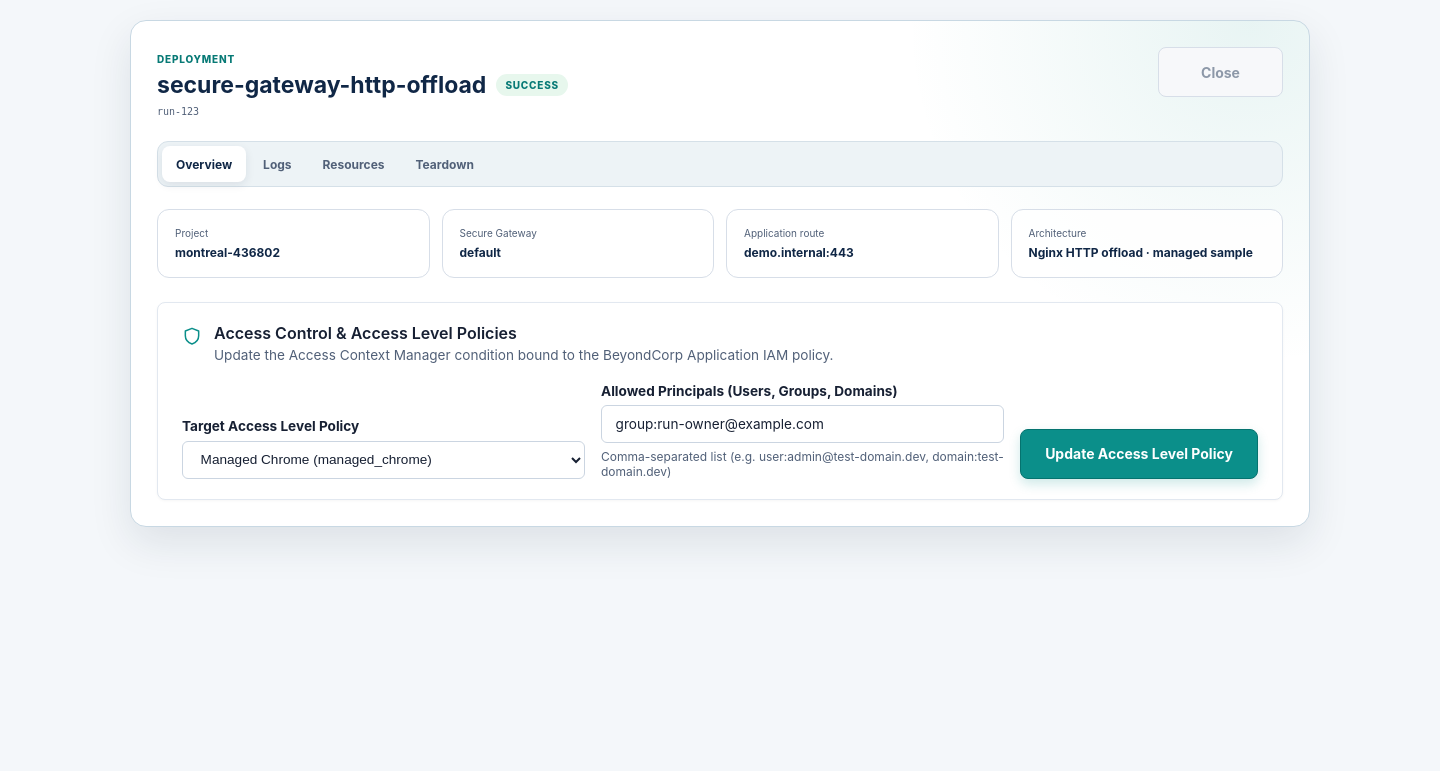
it: DeploymentManager › requires the hash-bound exact phrase before teardown
This screenshot has width=1440, height=771.
expect the text "montreal-436802" is shown: met, box [175,245,280,260]
Click the button "Teardown".
click(445, 164)  # box [402,146,488,182]
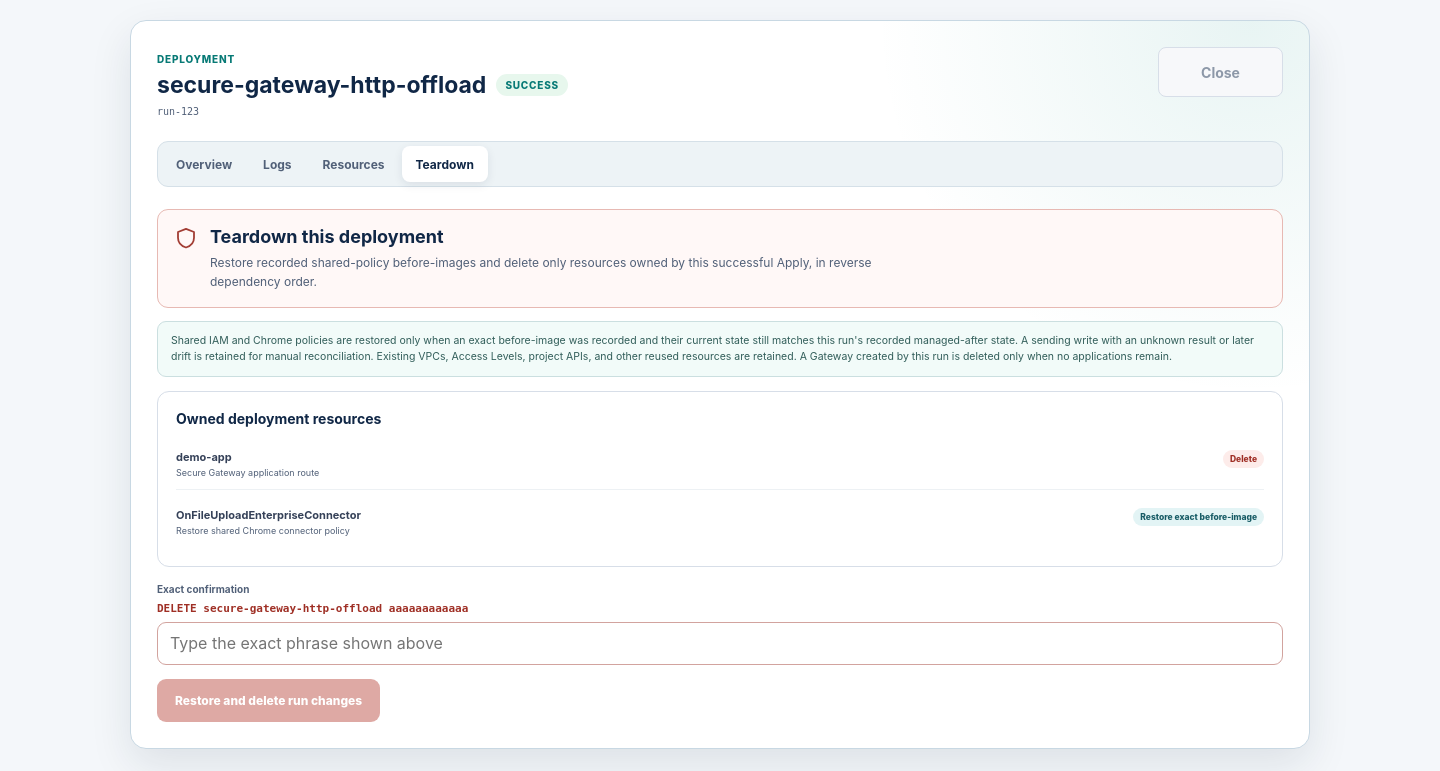
expect the button "Restore and delete run changes" is disabled: met, box [157,679,380,722]
Type "DELETE secure-gateway-http-offload aaaaaaaaaaaa" into the field with placeholder "Type the exact phrase shown above".
click(720, 643); type("DELETE secure-gateway-http-offload aaaaaaaaaaaa")  # box [157,622,1283,665]
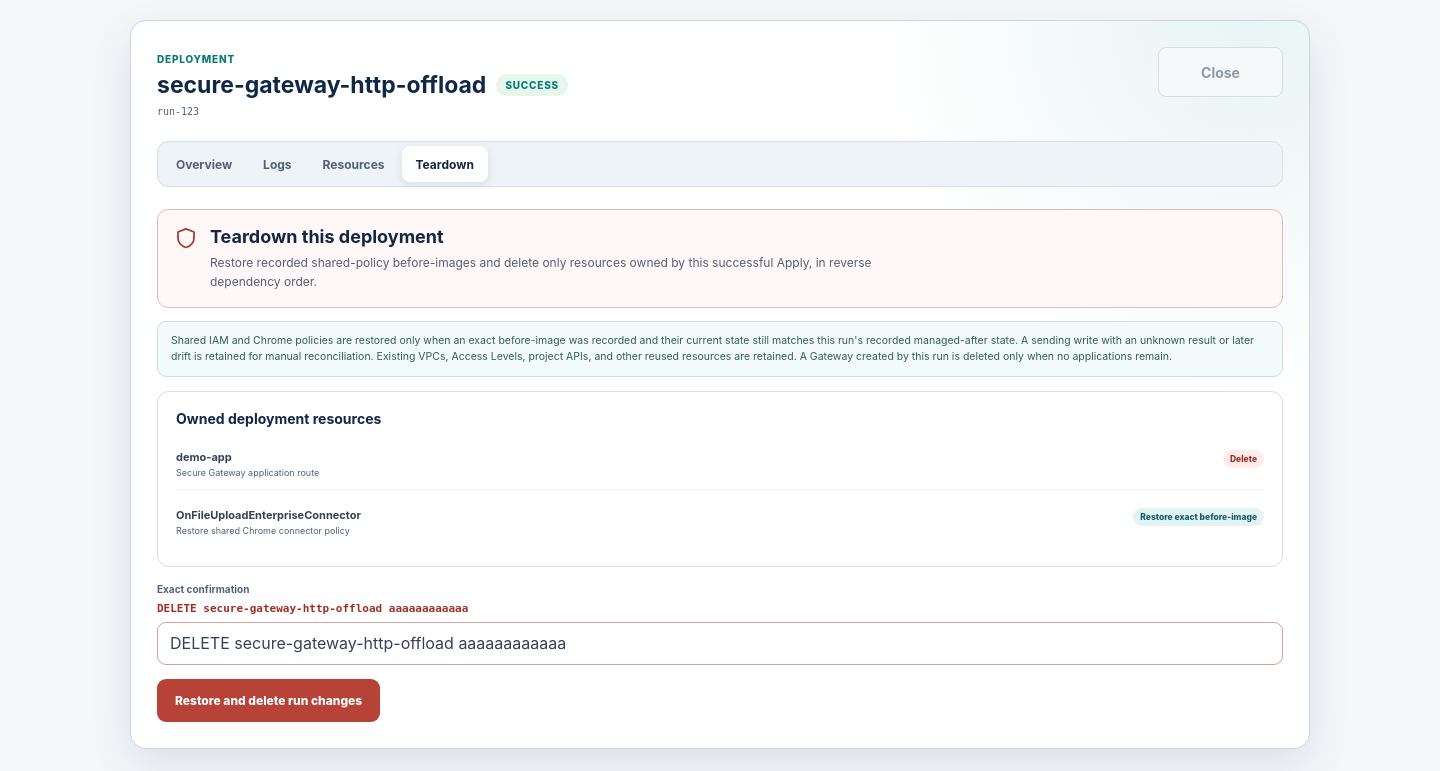
expect the button "Restore and delete run changes" is enabled: met
Click the button "Restore and delete run changes".
click(269, 700)  # box [157,679,380,722]
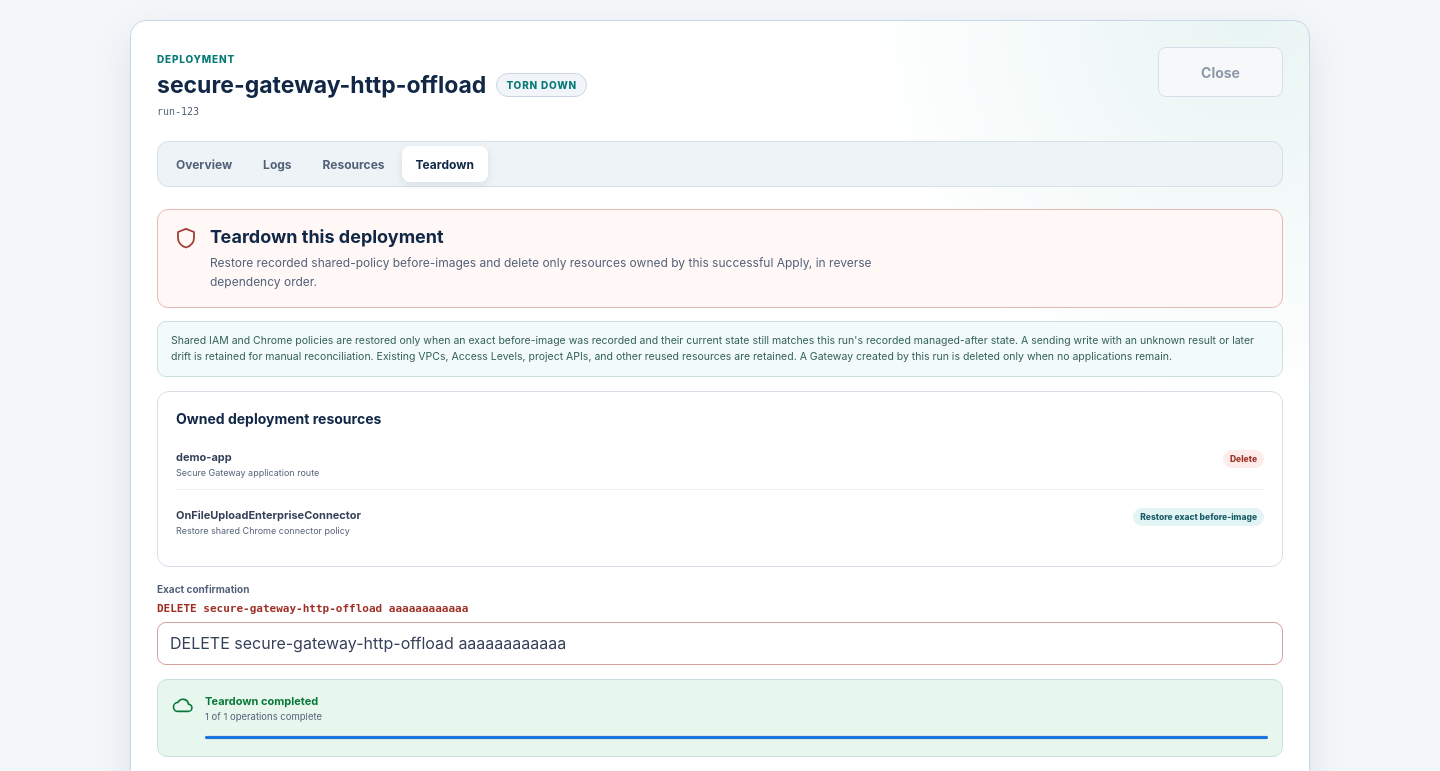
expect the text "Teardown completed" is shown: met, box [205,694,318,708]
